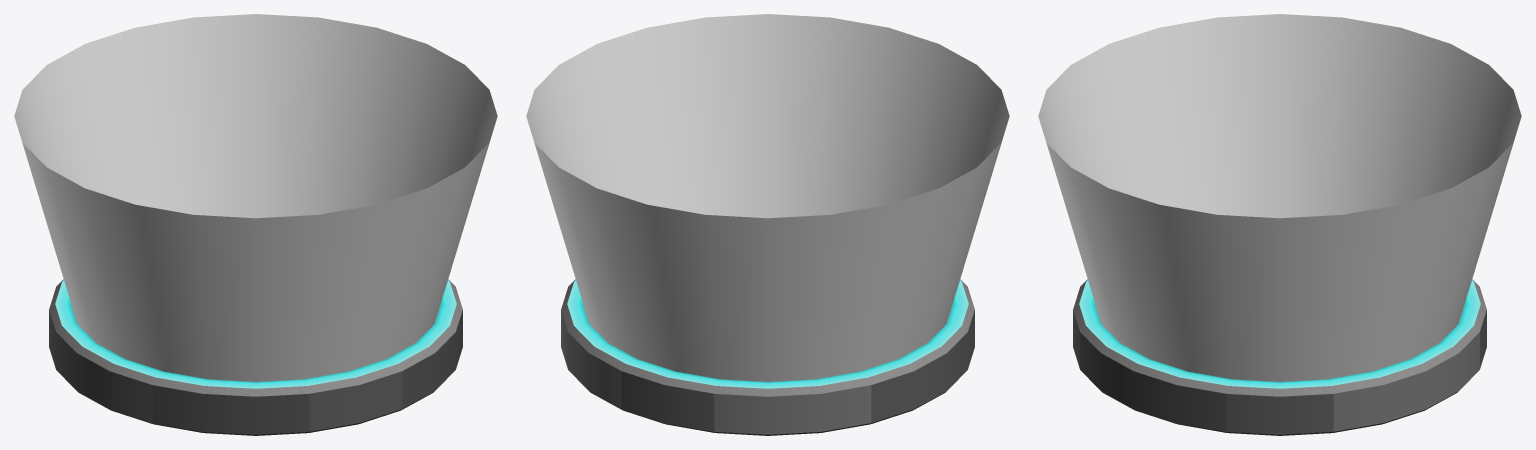
The model's file is TurnTable.fbx.
3 renders of one model, left to right at view 1: azimuth 30°, elevation 25°; view 2: azimuth 150°, elevation 25°; view 3: azimuth 270°, elevation 25°, orthographic.
Parts seen in each view (by area): view 1: TurnTable_Light, TurnTable; view 2: TurnTable_Light, TurnTable; view 3: TurnTable_Light, TurnTable.
Boxes of the visible parts, <box> form: TurnTable_Light: <box>14,14,497,381</box>; TurnTable: <box>49,279,462,435</box>; TurnTable_Light: <box>526,14,1009,381</box>; TurnTable: <box>561,279,974,435</box>; TurnTable_Light: <box>1038,14,1521,381</box>; TurnTable: <box>1073,279,1486,435</box>.
Bounding box in the file's own units: 70.38 × 37.47 × 70.38.
